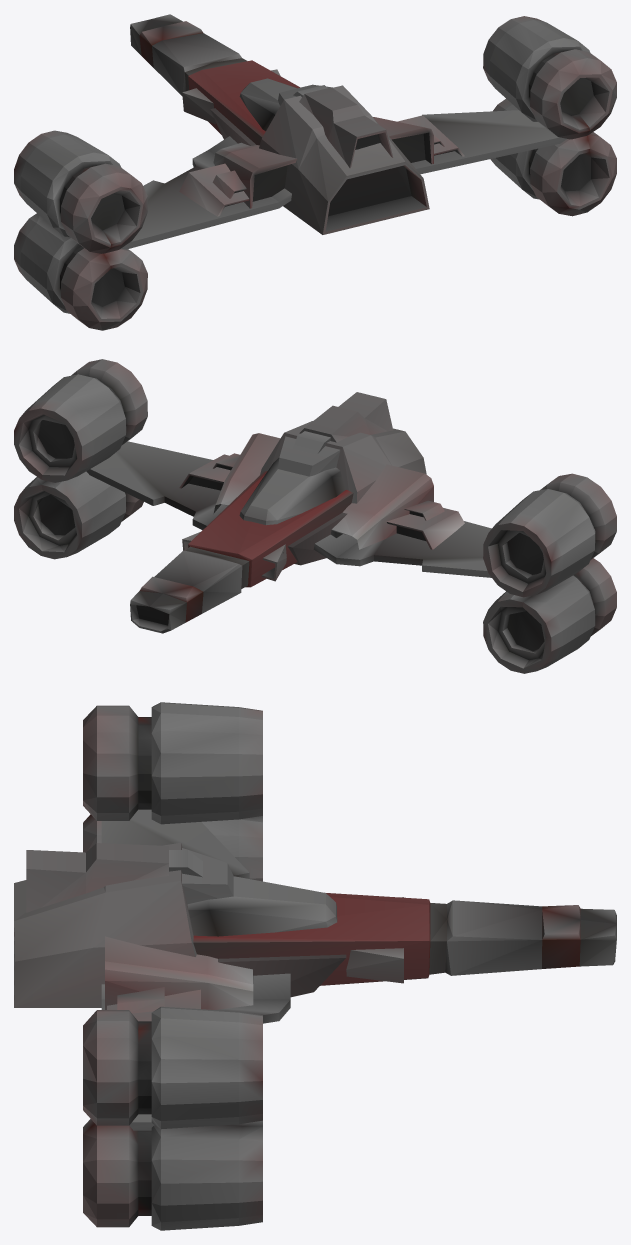
The model's file is spitfire.glb.
3 renders of one model, top to bottom at view 1: azimuth 30°, elevation 25°; view 2: azimuth 150°, elevation 25°; view 3: azimuth 270°, elevation 25°, orthographic. The views are drawn at different scales.
Parts seen in each view (by area): view 1: Spitfire; view 2: Spitfire; view 3: Spitfire.
Part boxes in pixels (x1,y1,x2,y2): Spitfire: [14, 14, 616, 330]; Spitfire: [14, 359, 616, 673]; Spitfire: [14, 702, 616, 1230].
Bounding box in the file's own units: 1 × 0.29 × 0.7158.
